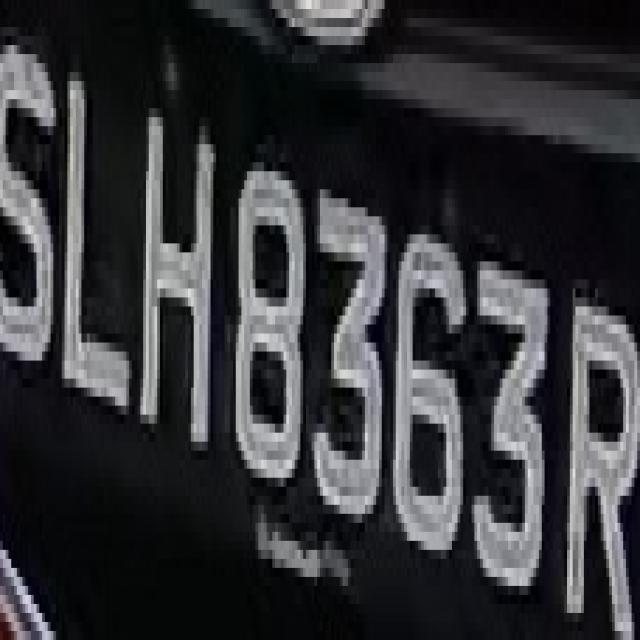3: (303, 144, 390, 550), (469, 225, 553, 613)
6: (388, 189, 463, 604)
8: (233, 135, 303, 523)
H: (140, 63, 219, 469)
L: (56, 45, 140, 415)
R: (556, 243, 632, 640)
S: (3, 18, 56, 397)
